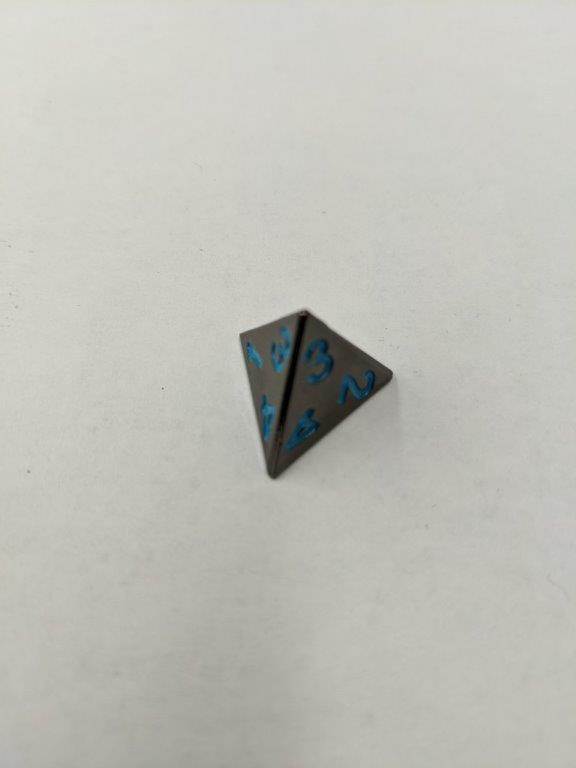d4-3: (238, 308, 403, 483)
